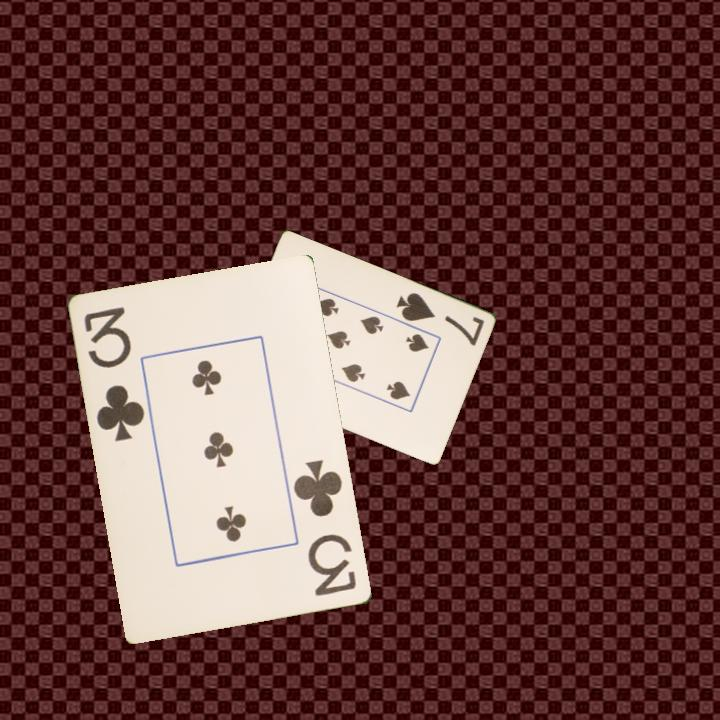3c: (290, 456, 360, 600), (81, 303, 148, 445)
7s: (392, 289, 487, 349)
